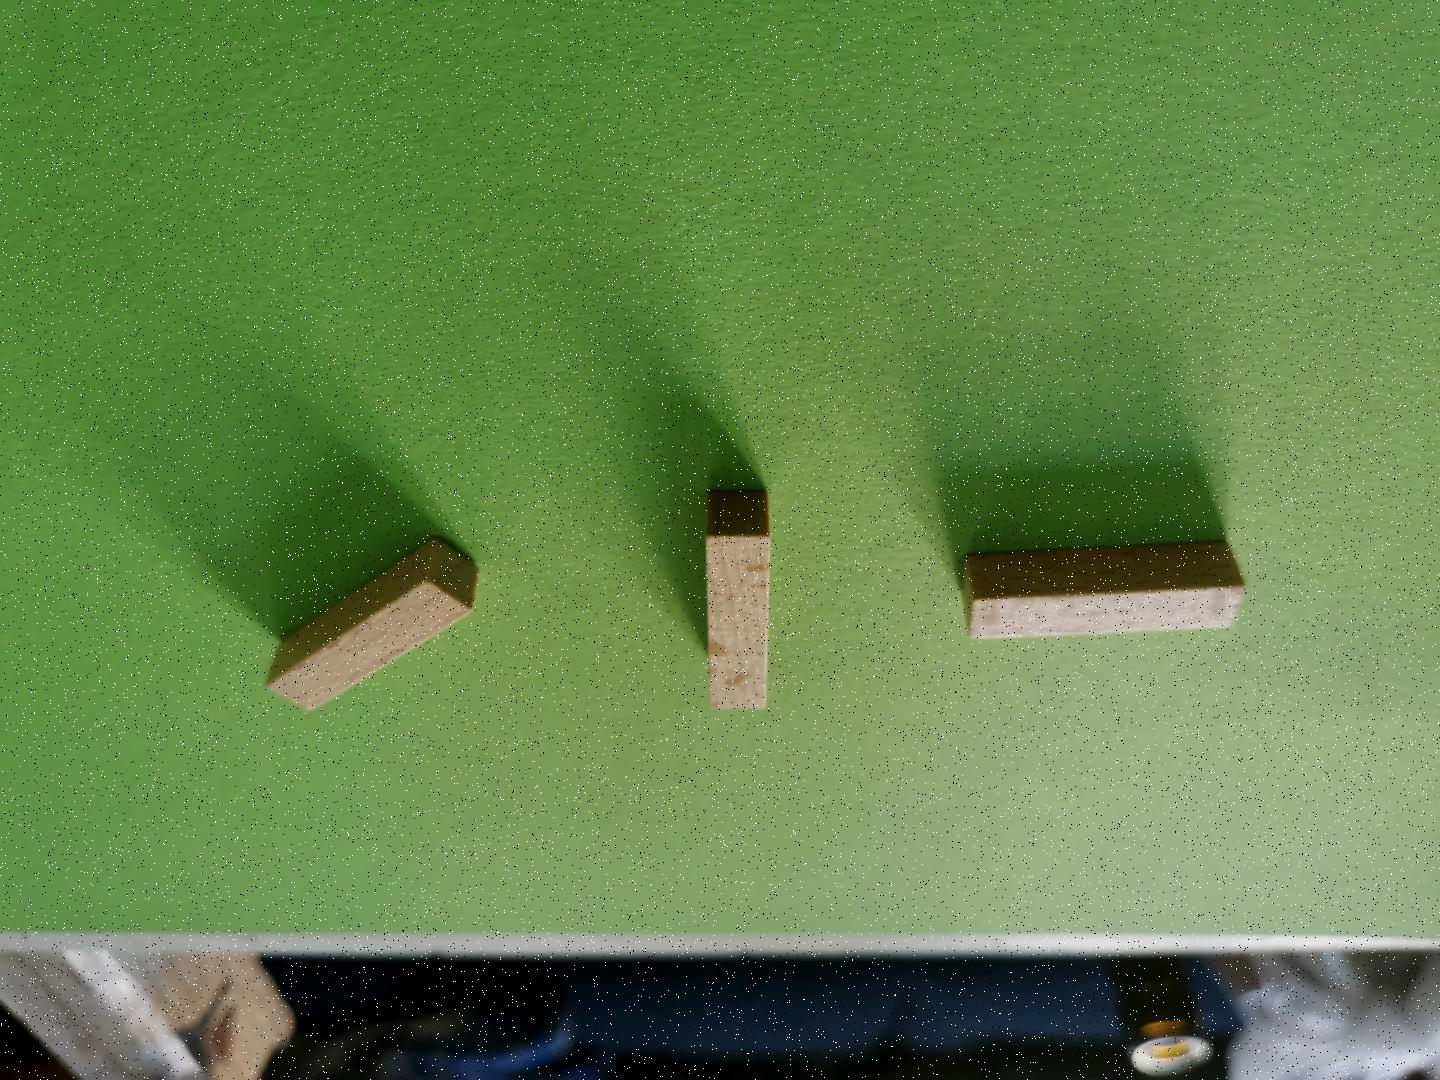jenga: (268, 538, 478, 709), (962, 542, 1243, 639), (706, 492, 771, 709)
